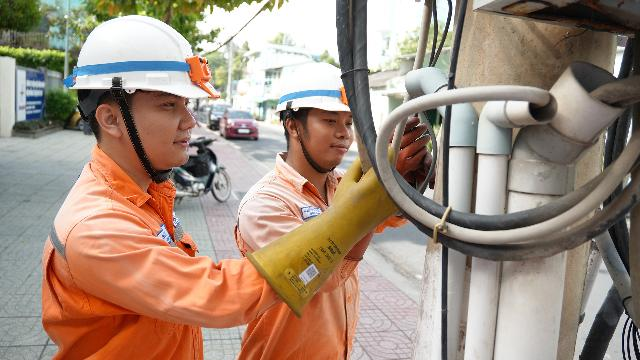gloves: (233, 154, 396, 299), (336, 105, 437, 262)
helmet: (63, 0, 228, 115), (263, 46, 360, 121)
